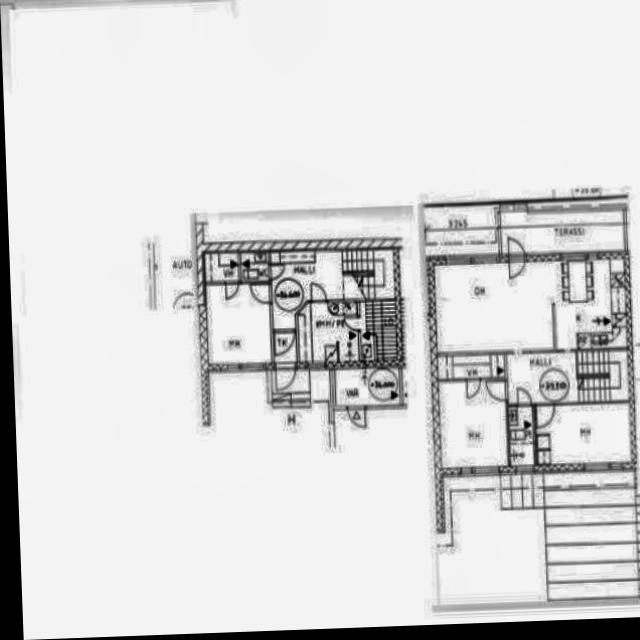room: (507, 351, 629, 403), (439, 380, 508, 469), (298, 301, 397, 361), (537, 404, 631, 464), (206, 284, 271, 364), (335, 368, 400, 406), (438, 355, 504, 379), (509, 407, 534, 466), (205, 253, 238, 281), (241, 253, 268, 281), (274, 334, 296, 362)
